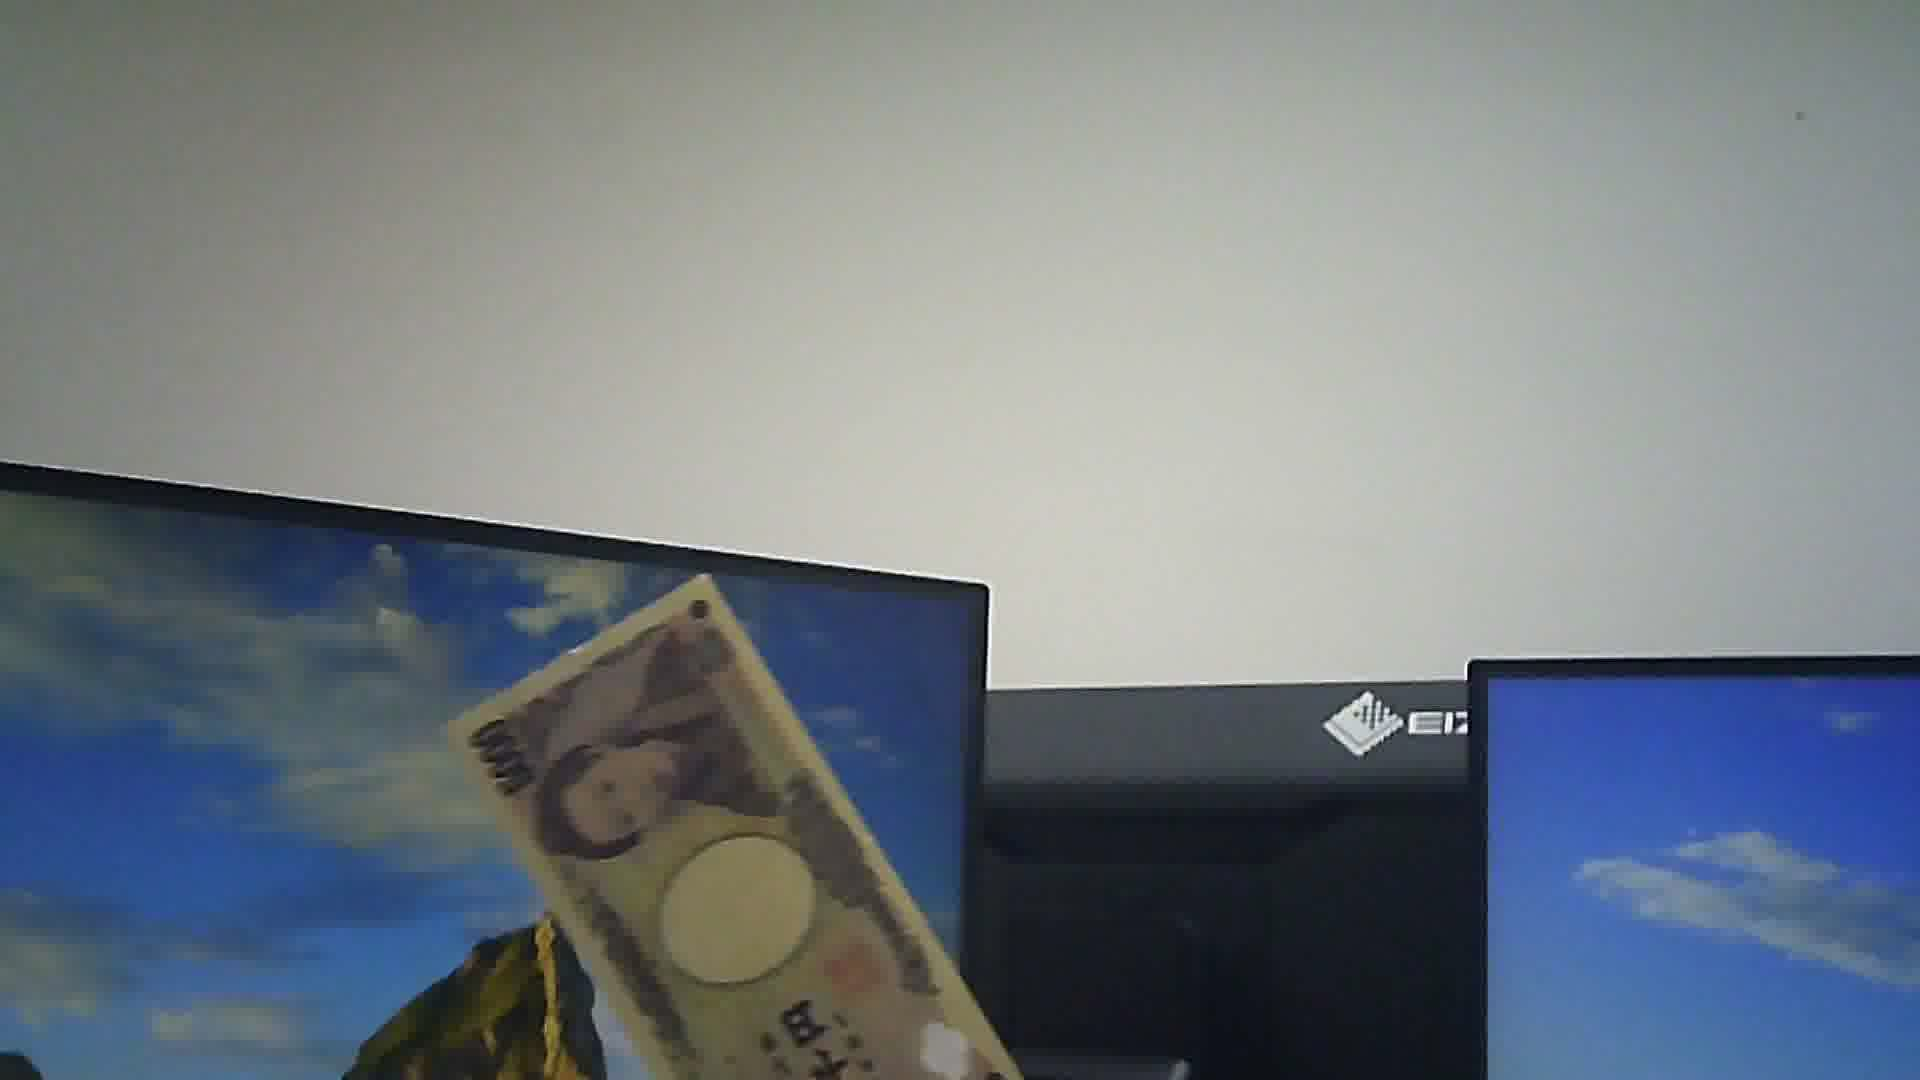5,000 Yen: (436, 571, 1040, 1079)
